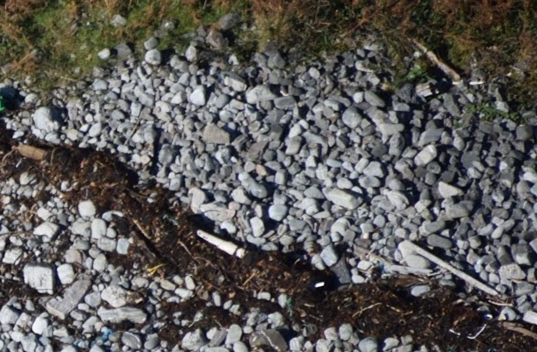straight_bar: (408, 233, 499, 299), (412, 34, 469, 85), (190, 223, 250, 262)
white_in_green: (85, 314, 133, 351)
